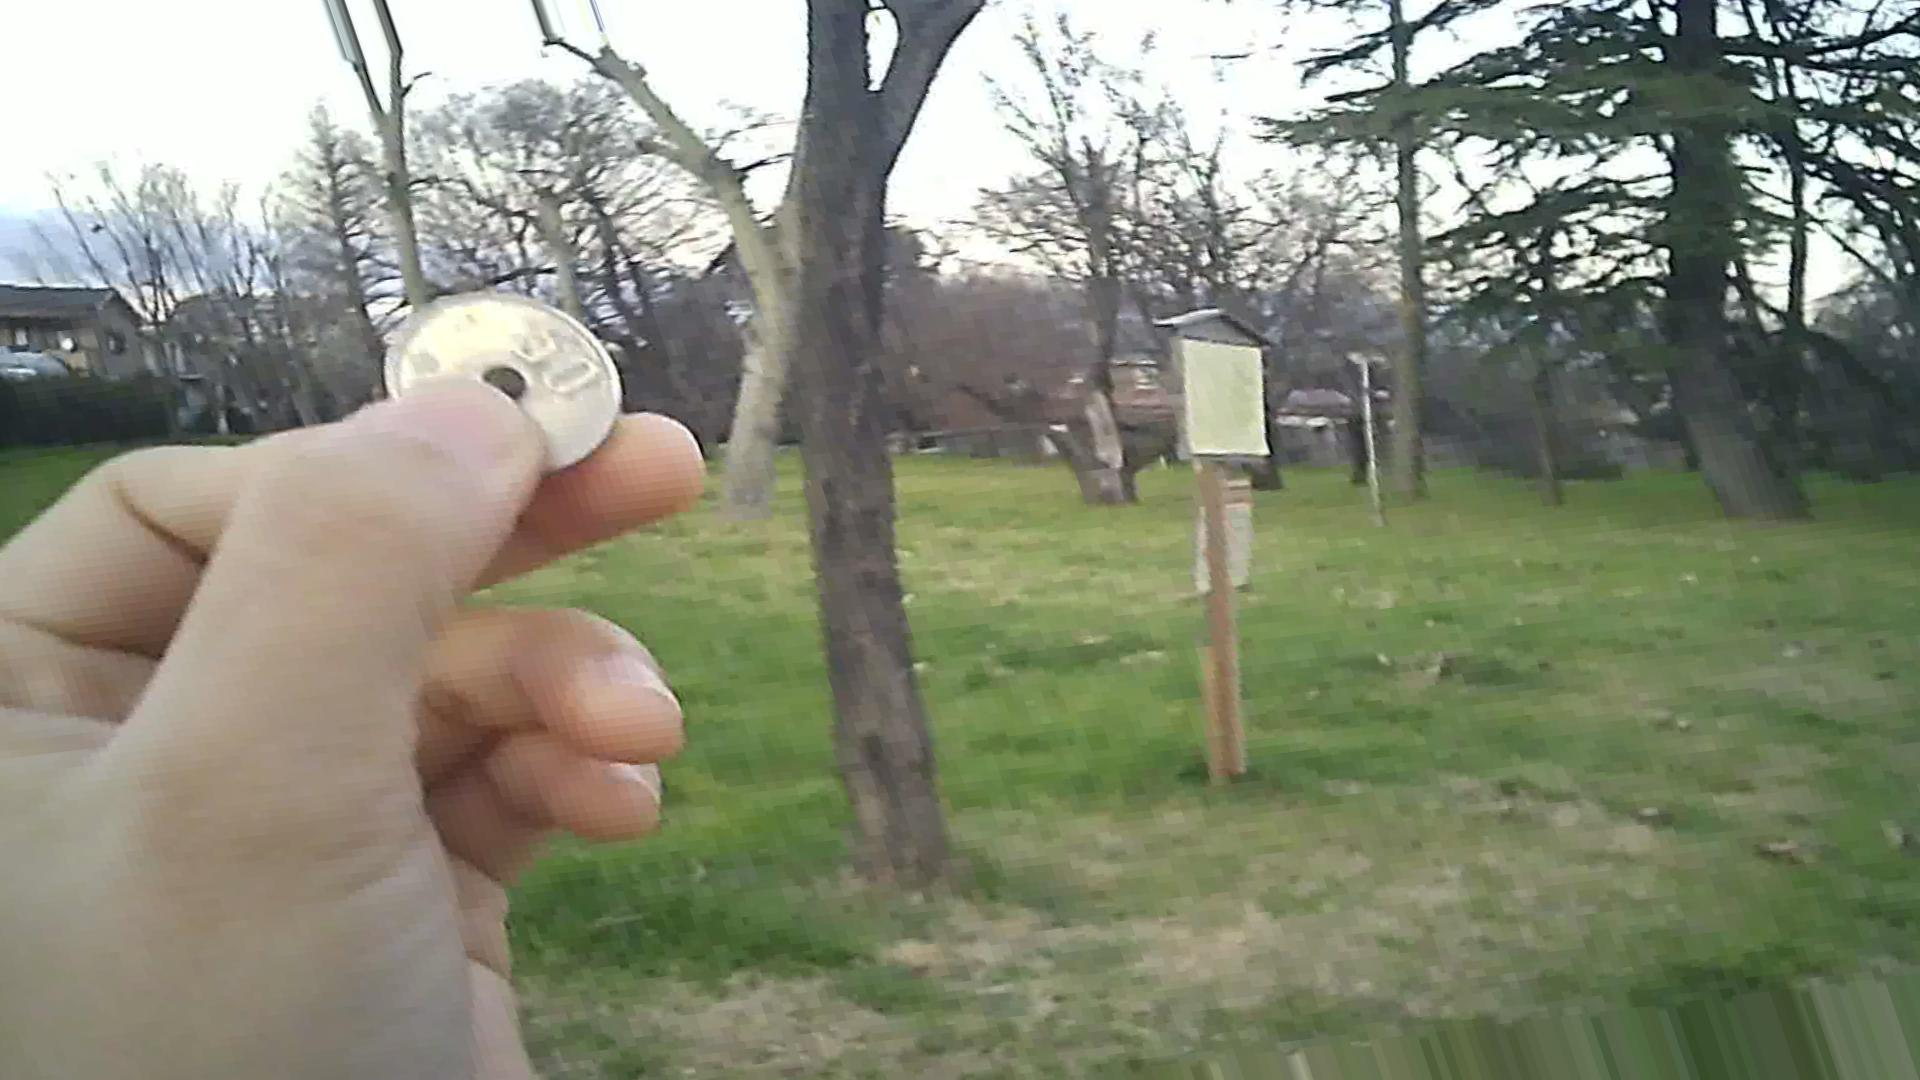50 Yen: (351, 284, 618, 468)
